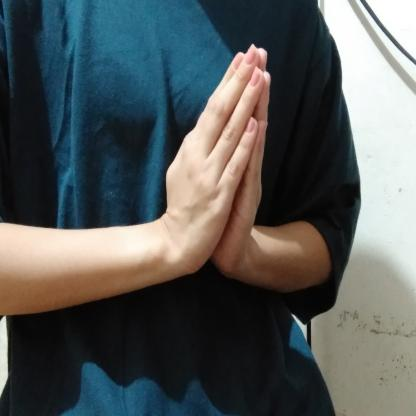sorry: (159, 38, 282, 298)
